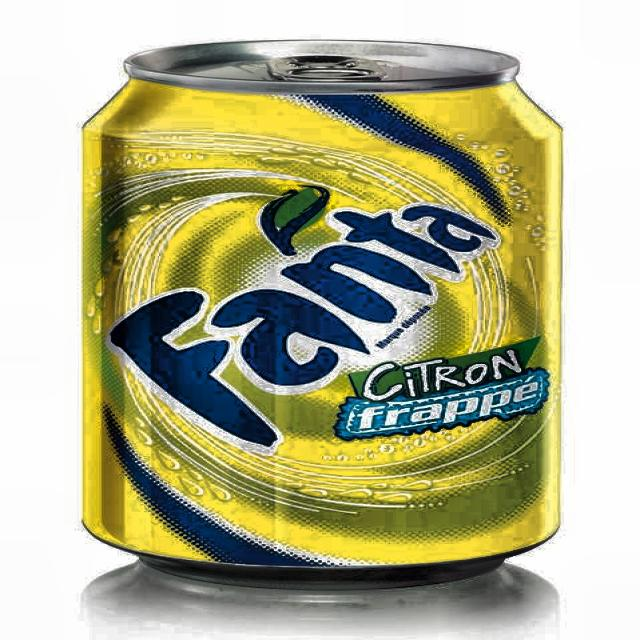Cans: (78, 38, 575, 620)
